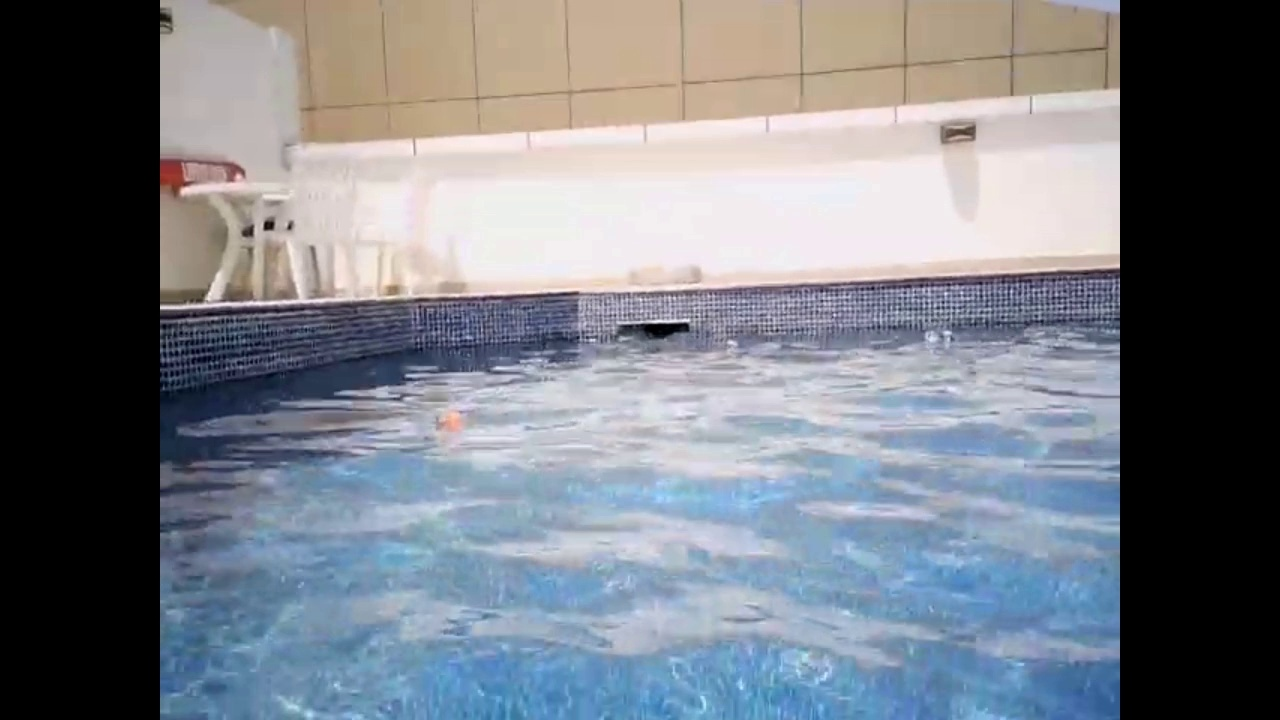debris: (426, 405, 458, 434), (919, 326, 938, 344), (936, 329, 952, 345), (723, 335, 736, 348)
